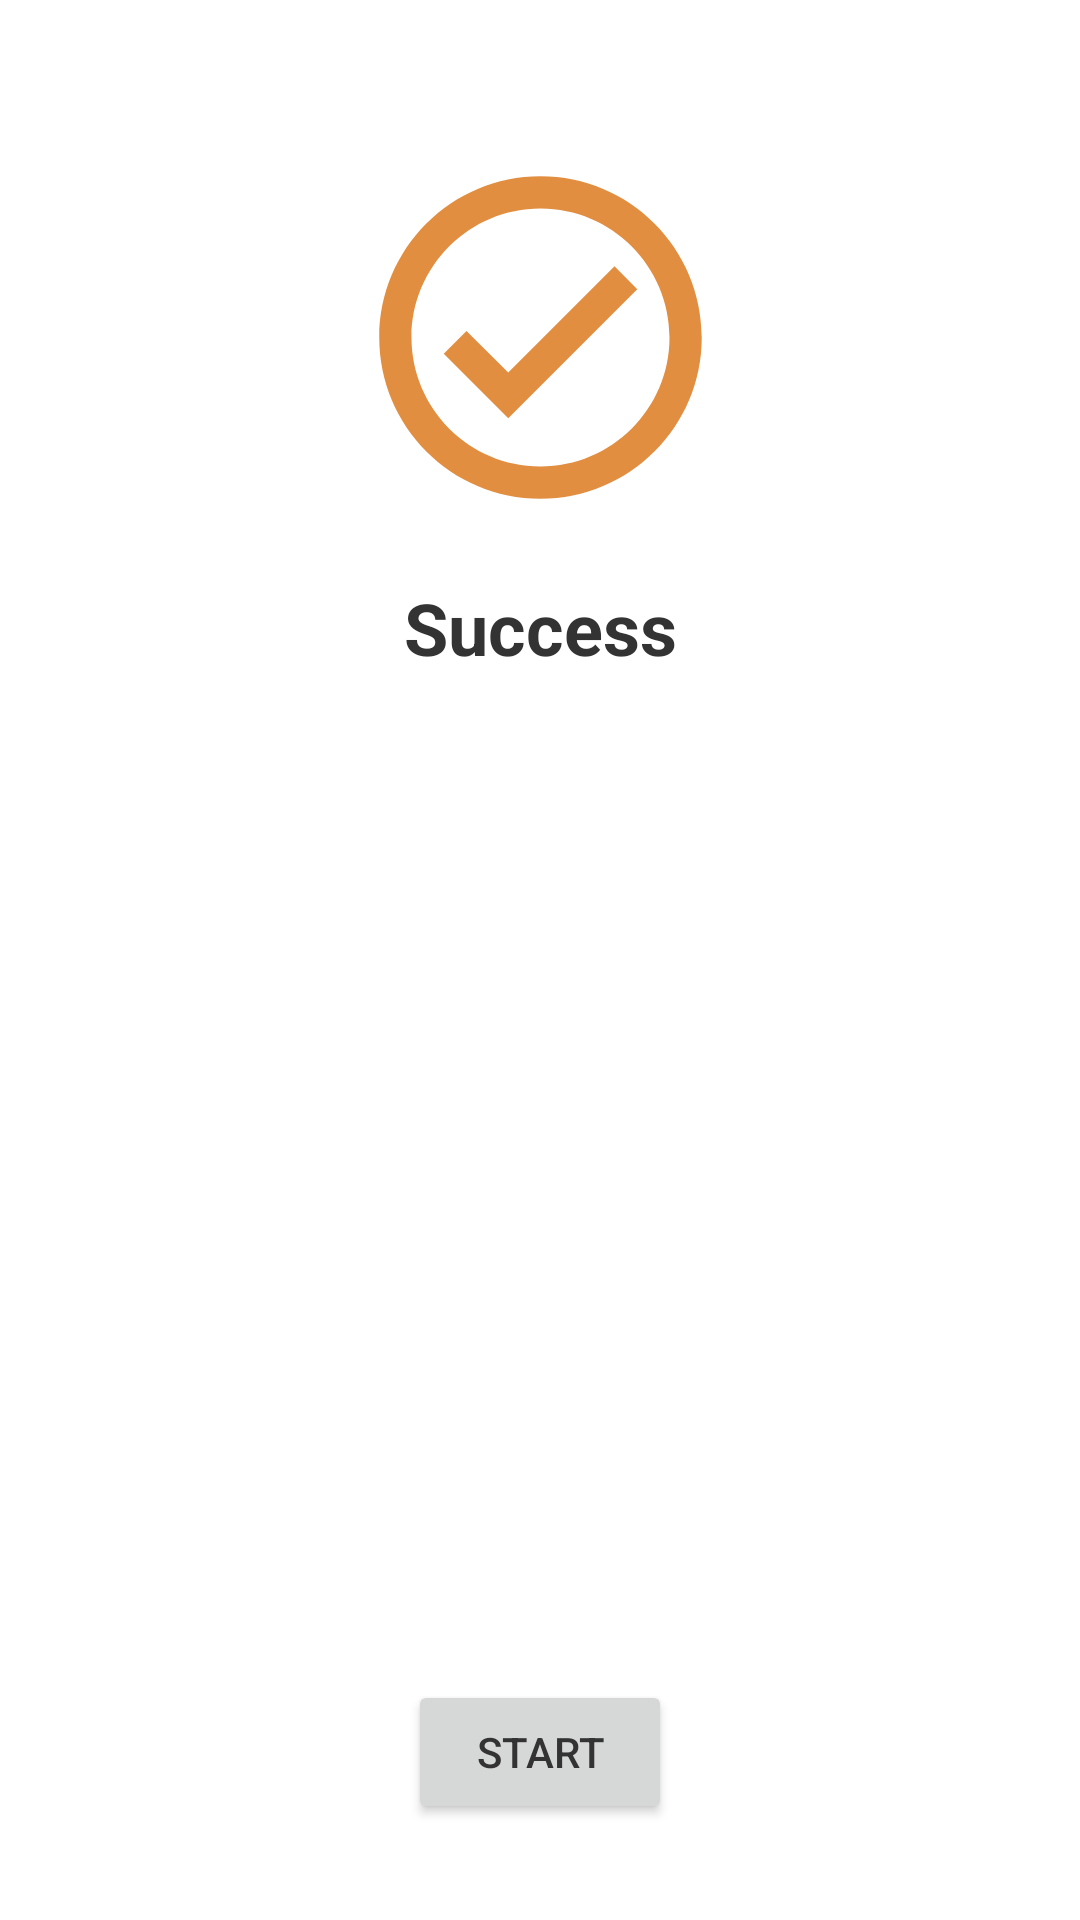

Screen size 1080w x 1920h. Icon name, then its box in pixels as bbox=(x1, y1, x2, y2):
check mark: bbox=(379, 176, 702, 499)
